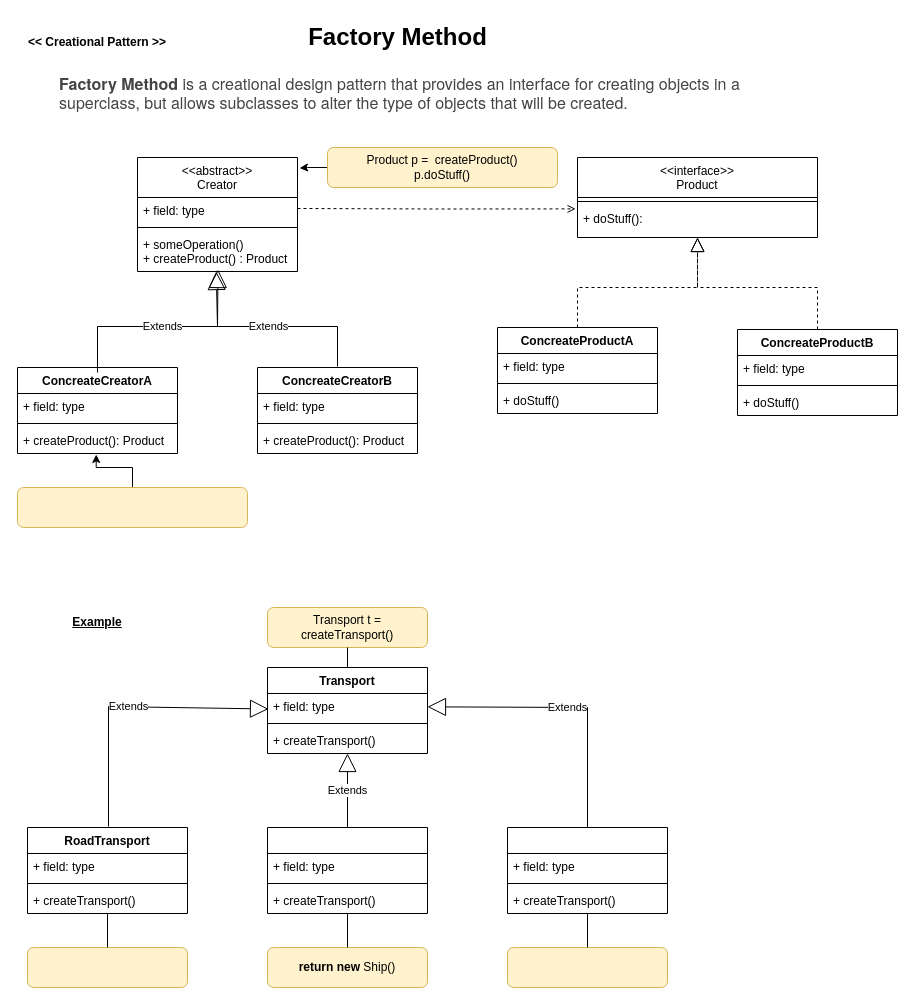
Some shapes in this 915 by 1005 pixel diagram are drawn without their labels. The shapes that lost their labels are listed below. From the top down, each one's box as (x1, y1, x2, y2) in pixels, then its label:
(16, 486, 248, 528): return new ConcreateProductA()
(266, 826, 428, 914): SeaTransport
(506, 826, 668, 914): AirTransport
(26, 946, 188, 988): return new Truck()
(506, 946, 668, 988): return new AirCargo()
